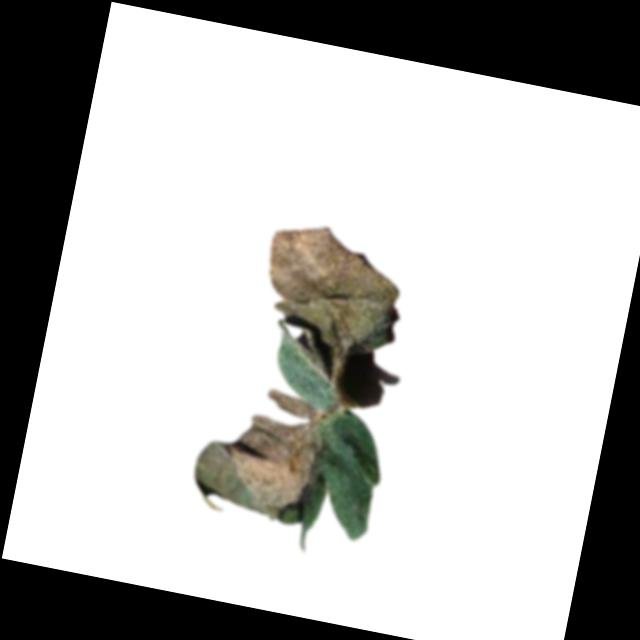Late_blight: (187, 376, 344, 530), (254, 215, 414, 359)
